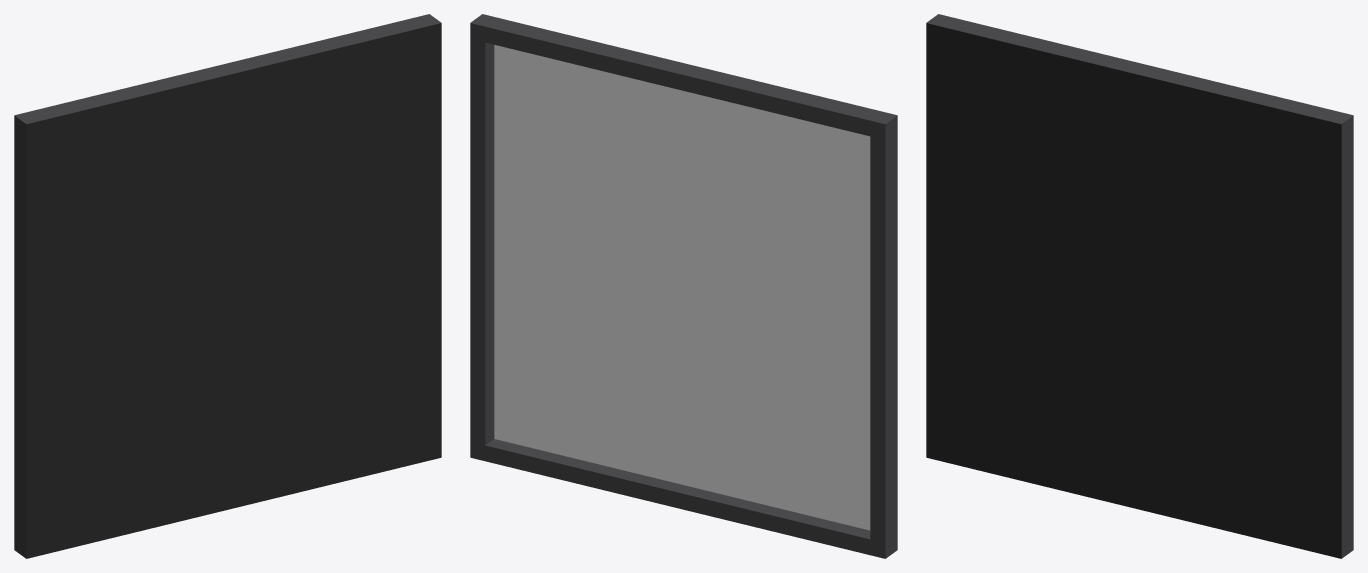
File: frame.glb
3 renders of one model, left to right at view 1: azimuth 30°, elevation 25°; view 2: azimuth 150°, elevation 25°; view 3: azimuth 330°, elevation 25°, orthographic.
Visible parts, largest first — view 1: frame; view 2: frame; view 3: frame.
Part boxes in pixels (x1,y1,x2,y2): frame: (14, 14, 441, 558); frame: (470, 14, 897, 558); frame: (926, 14, 1353, 558).
Size of the model in its own units: 1.2 by 1.2 by 0.0614.
Materials: 2 (2 with a texture image).
